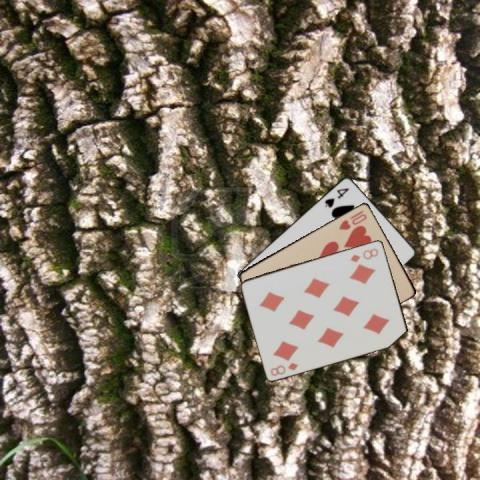10h: (335, 207, 368, 231)
4s: (322, 184, 350, 208)
8d: (347, 245, 380, 263), (268, 360, 300, 378)
